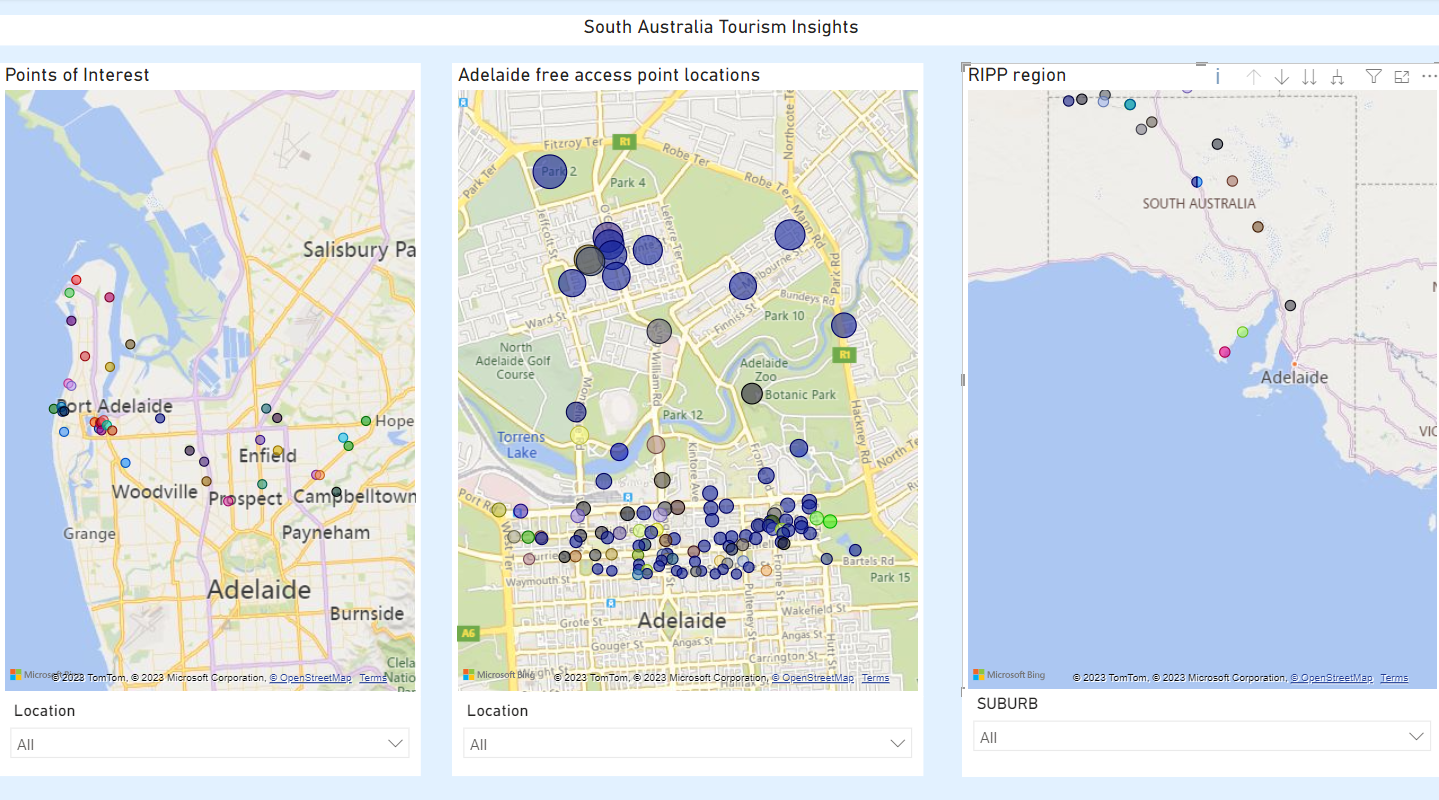

Layout of this report page (visuals, bound fields, positions):
{"tool":"powerbi","page":{"name":"Dashboard","canvas":[1280,720],"ordinal":0},"visuals":[{"type":"map","title":"Points of Interest","fields":{"Series":["in.Name"],"Size":["CountNonNull(in.OBJECTID)"],"Y":["Avg(in.Y)"],"Category":["in.X","in.Y"],"X":["Avg(in.X)"]},"box":[0,57.3,374.2,561.8],"z":0},{"type":"slicer","fields":{"Values":["in.Name"]},"box":[0,619.1,374.2,70.9],"z":1000},{"type":"map","title":"Adelaide free access point locations","fields":{"Y":["adelaidefree-access-point-locations-20140618.Latitude"],"X":["adelaidefree-access-point-locations-20140618.Longitude"],"Size":["Avg(adelaidefree-access-point-locations-20140618.Latitude)"],"Series":["adelaidefree-access-point-locations-20140618.BSSID"]},"box":[401.4,57.3,417.9,561.8],"z":2000},{"type":"slicer","fields":{"Values":["adelaidefree-access-point-locations-20140618.AP NAME"]},"box":[401.4,619.1,417.9,70.9],"z":3000},{"type":"textbox","title":"South Australia Tourism Insights","box":[0,0,1280.4,27.5],"z":4000},{"type":"map","title":"RIPP region","fields":{"Series":["RIPP regions.CODE"],"Category":["RIPP regions.NAME","RIPP regions.POSTCODE","RIPP regions.RIPP Region","RIPP regions.STATE","RIPP regions.SUBURB","RIPP regions.Full Name"],"Y":["Sum(RIPP regions.LATITUDE)"],"X":["Sum(RIPP regions.LONGITUDE)"]},"box":[854.3,57.3,425.7,561.8],"z":4001},{"type":"slicer","fields":{"Values":["RIPP regions.SUBURB"]},"box":[854.3,612.3,425.7,77.8],"z":4002}]}

Visuals, with their boxes in screenshot pixels (x1, y1, x2, y2), scaled from the page's 1280x720 canvas onto the 1439x800 screenshot:
"Points of Interest" map: [0, 64, 421, 688]
slicer - in.Name: [0, 688, 421, 767]
"Adelaide free access point locations" map: [451, 64, 921, 688]
slicer - adelaidefree-access-point-locations-20140618.AP NAME: [451, 688, 921, 767]
"South Australia Tourism Insights" textbox: [0, 0, 1438, 31]
"RIPP region" map: [960, 64, 1438, 688]
slicer - RIPP regions.SUBURB: [960, 680, 1438, 767]
